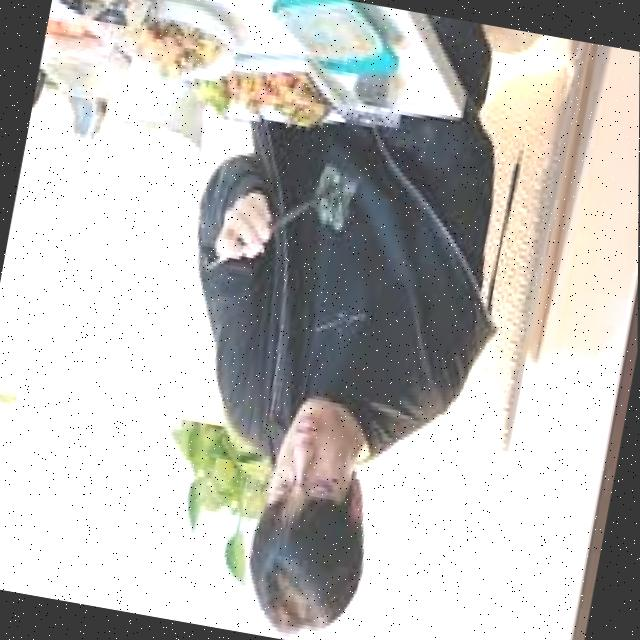eating-person: (119, 0, 535, 640)
